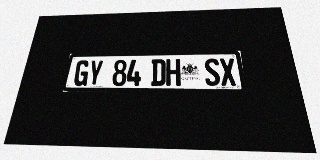4: (126, 59, 142, 86)
8: (111, 60, 128, 86)
D: (151, 59, 165, 86)
G: (73, 60, 90, 86)
H: (166, 59, 181, 86)
S: (204, 58, 221, 86)
X: (219, 58, 237, 86)
Y: (87, 60, 104, 86)
